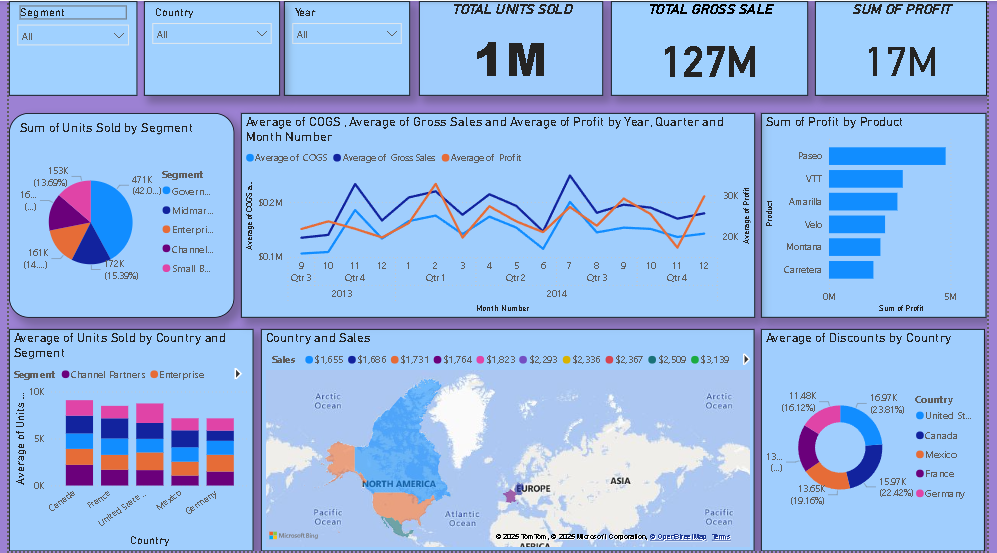

Layout of this report page (visuals, bound fields, positions):
{"tool":"powerbi","page":{"name":"Page 1","canvas":[1280,720],"ordinal":0},"visuals":[{"type":"columnChart","fields":{"Y":["Avg(financial_data. Units Sold )"],"Category":["financial_data.Country"],"Series":["financial_data.Segment"]},"box":[0,428.8,320,291.2],"z":0},{"type":"slicer","fields":{"Values":["financial_data.Segment"]},"box":[0,0,167.5,123.8],"z":1000},{"type":"slicer","fields":{"Values":["financial_data.Year"]},"box":[360,0,165,123.8],"z":2000},{"type":"card","title":"TOTAL UNITS SOLD","fields":{"Values":["Sum(financial_data. Units Sold )"]},"box":[536.2,0,241.2,123.8],"z":3000},{"type":"card","title":"TOTAL GROSS SALE","fields":{"Values":["Sum(financial_data. Gross Sales )"]},"box":[787.5,0,257.5,123.8],"z":4000},{"type":"filledMap","fields":{"Category":["financial_data.Country"],"Series":["financial_data.  Sales "]},"box":[330,428.8,646.2,291.2],"z":5000},{"type":"clusteredBarChart","fields":{"Y":["Sum(financial_data. Profit )"],"Category":["financial_data. Product "]},"box":[985,146.2,295,267.5],"z":6000},{"type":"pieChart","fields":{"Category":["financial_data.Segment"],"Y":["Sum(financial_data. Units Sold )"]},"box":[0,146.2,295,267.5],"z":7000},{"type":"slicer","fields":{"Values":["financial_data.Country"]},"box":[176.2,0,177.5,123.8],"z":8000},{"type":"card","title":"SUM OF PROFIT","fields":{"Values":["Sum(financial_data. Profit )"]},"box":[1055,0,225,123.8],"z":9000},{"type":"donutChart","fields":{"Category":["financial_data.Country"],"Y":["Avg(financial_data. Discounts )"]},"box":[985,428.8,292.5,291.2],"z":10000},{"type":"lineChart","fields":{"Y":["Avg(financial_data. COGS )","Avg(financial_data. Gross Sales )"],"Y2":["Avg(financial_data. Profit )"],"Category":["financial_data.Date.Variation.Date Hierarchy.Year","financial_data.Date.Variation.Date Hierarchy.Quarter","financial_data.Month Number"]},"box":[303.8,146.2,672.5,267.5],"z":11000}]}

Visuals, with their boxes in screenshot pixels (x1, y1, x2, y2), scaled from the page's 1280x720 canvas onto the 997x553 screenshot:
columnChart - Avg(financial_data. Units Sold ) x financial_data.Country: <bbox>0, 329, 249, 552</bbox>
slicer - financial_data.Segment: <bbox>0, 0, 130, 95</bbox>
slicer - financial_data.Year: <bbox>280, 0, 409, 95</bbox>
"TOTAL UNITS SOLD" card: <bbox>418, 0, 606, 95</bbox>
"TOTAL GROSS SALE" card: <bbox>613, 0, 814, 95</bbox>
filledMap - financial_data.Country x financial_data.  Sales : <bbox>257, 329, 760, 552</bbox>
clusteredBarChart - Sum(financial_data. Profit ) x financial_data. Product : <bbox>767, 112, 996, 318</bbox>
pieChart - financial_data.Segment x Sum(financial_data. Units Sold ): <bbox>0, 112, 230, 318</bbox>
slicer - financial_data.Country: <bbox>137, 0, 275, 95</bbox>
"SUM OF PROFIT" card: <bbox>822, 0, 996, 95</bbox>
donutChart - financial_data.Country x Avg(financial_data. Discounts ): <bbox>767, 329, 995, 552</bbox>
lineChart - Avg(financial_data. COGS ) x Avg(financial_data. Gross Sales ): <bbox>237, 112, 760, 318</bbox>
